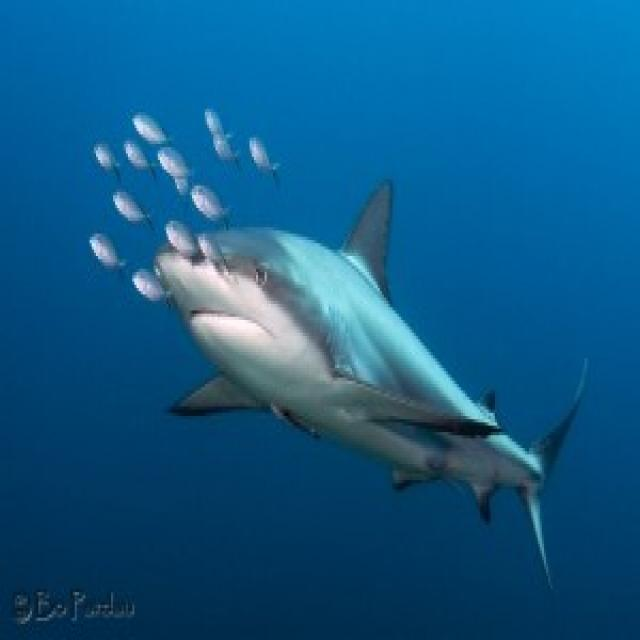Shark: (156, 187, 594, 605)
